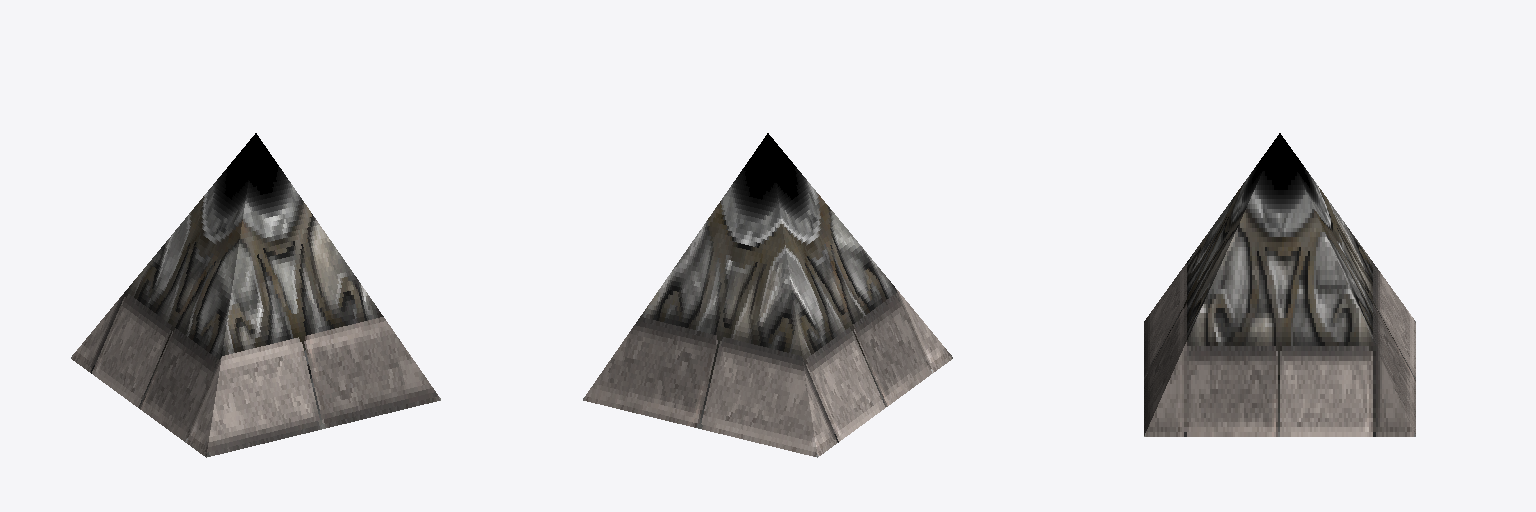
3 renders of one model, left to right at view 1: azimuth 30°, elevation 25°; view 2: azimuth 150°, elevation 25°; view 3: azimuth 270°, elevation 25°, orthographic.
Parts seen in each view (by area): view 1: Pyramid_Cube.001; view 2: Pyramid_Cube.001; view 3: Pyramid_Cube.001.
Boxes of the visible parts, box(x1,y1,x2,y2) form: Pyramid_Cube.001: box(71, 133, 440, 457); Pyramid_Cube.001: box(583, 133, 952, 457); Pyramid_Cube.001: box(1144, 133, 1415, 436).
Bounding box in the file's own units: 2 × 2 × 2.
Materials: 1 (1 with a texture image).